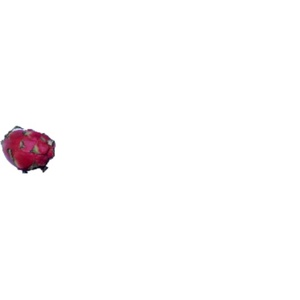pitaia: (1, 126, 56, 174)
